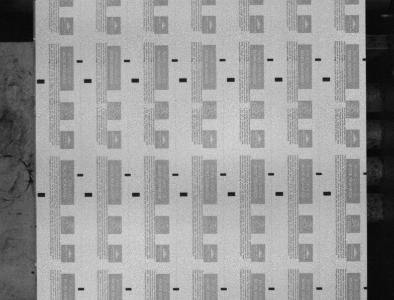backgroundclutter: (31, 271, 35, 274)
incorrect qblock: (364, 286, 368, 289), (363, 172, 367, 175), (363, 58, 367, 61)
qblock: (131, 78, 140, 83), (132, 192, 140, 197), (180, 192, 188, 197), (276, 191, 284, 196), (37, 79, 45, 84), (323, 191, 331, 196), (275, 77, 283, 82), (37, 192, 45, 197), (227, 77, 235, 82), (85, 192, 92, 197), (228, 192, 236, 196), (84, 79, 92, 83), (179, 78, 187, 82), (323, 77, 331, 81)
smallqblock: (125, 287, 132, 291), (77, 173, 84, 177), (268, 172, 275, 176), (220, 58, 226, 62), (221, 287, 228, 290), (316, 287, 323, 290), (76, 60, 83, 63), (124, 173, 131, 176), (172, 173, 179, 176), (220, 173, 227, 176), (267, 58, 274, 61), (315, 58, 322, 61), (78, 287, 84, 290), (269, 287, 275, 290), (173, 287, 179, 290), (124, 59, 130, 62), (172, 59, 178, 62), (316, 172, 322, 175)
